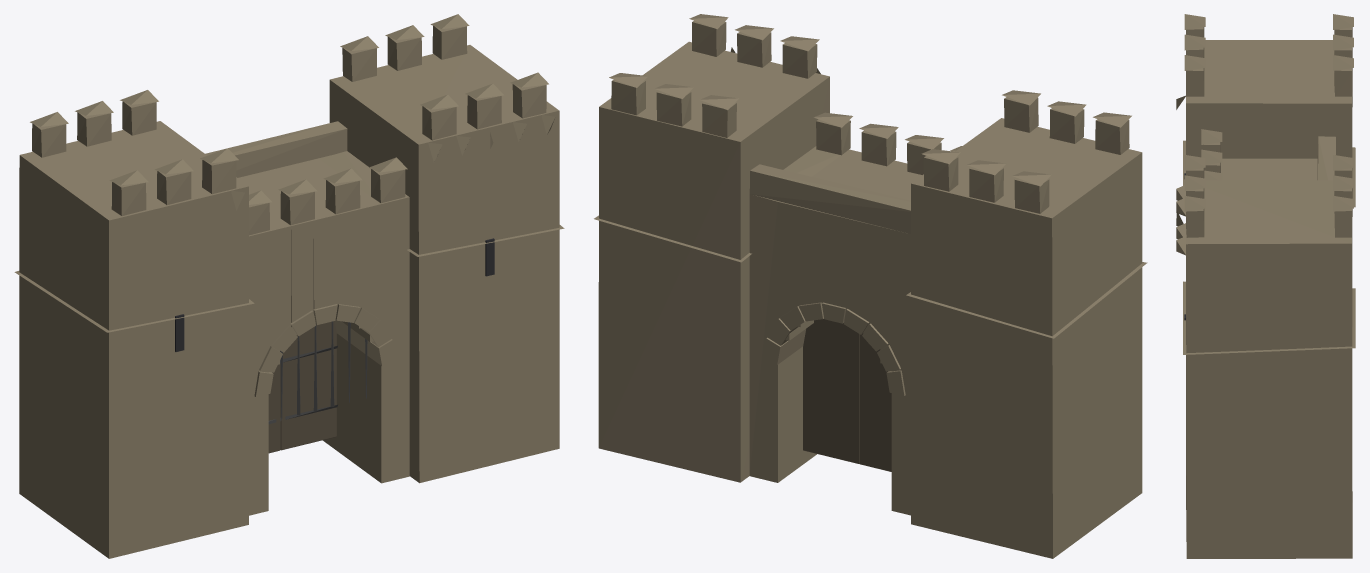
The model's file is castle-gate-lod1.glb.
3 views of the same model, side by side, from view 1: azimuth 30°, elevation 25°; view 2: azimuth 150°, elevation 25°; view 3: azimuth 270°, elevation 25° (orthographic). The views are drawn at different scales.
Bounding box in the file's own units: 16.21 × 12.58 × 5.93.
